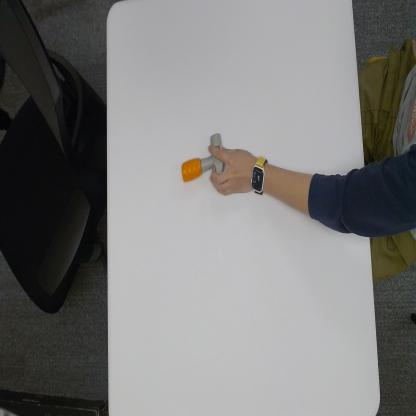Arm: (268, 162, 367, 240)
Hammer: (182, 131, 224, 181)
Hand: (208, 143, 254, 195)
